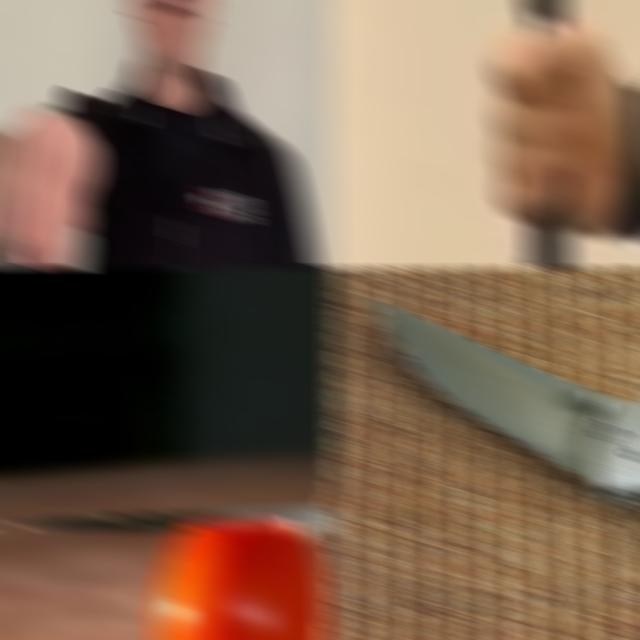Knife: (514, 0, 581, 270)
Knife_Handle: (4, 266, 338, 625), (488, 0, 636, 270), (0, 108, 104, 270)
